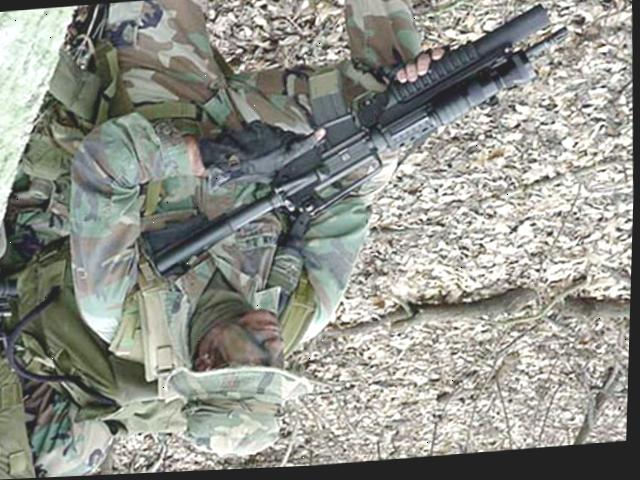rifle: (127, 0, 566, 294)
